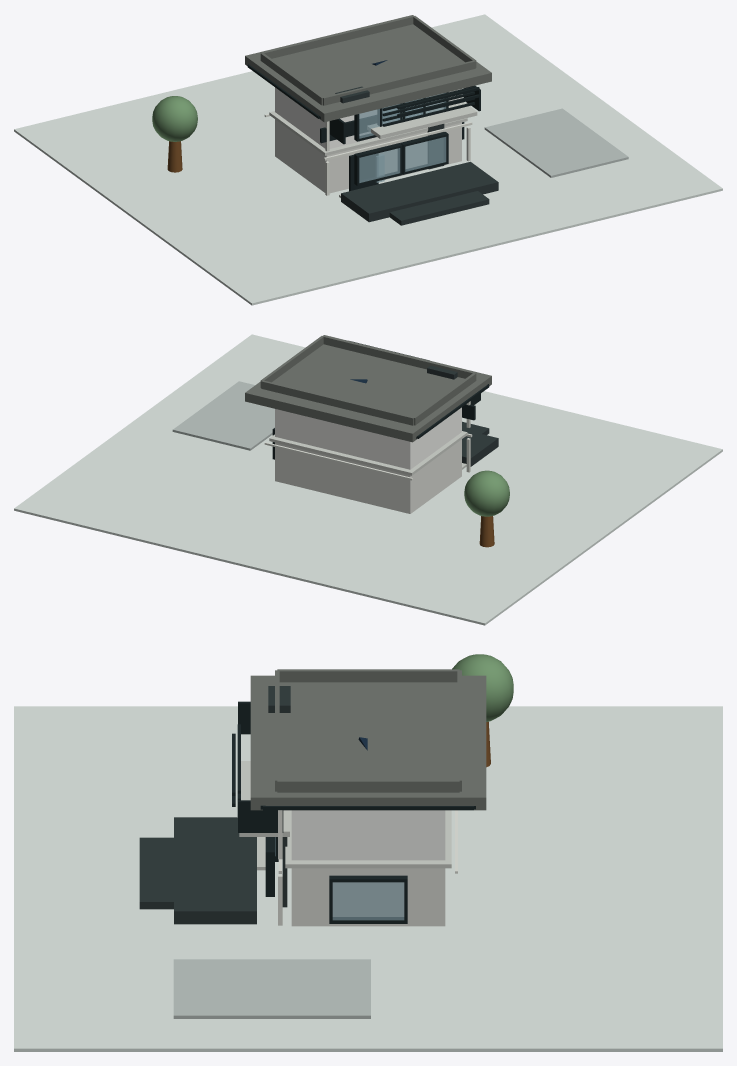
File: generated-shell-pnu-41450-002-compact-flat-studio-urban-atelier.glb
The picture shows the model from 3 angles, top to bottom: view 1: azimuth 30°, elevation 25°; view 2: azimuth 150°, elevation 25°; view 3: azimuth 270°, elevation 25°; orthographic projection. The views are drawn at different scales.
Parts seen in each view (by area): view 1: IfcSite_ServicePreviewBase, IfcRoof_FlatRoof, IfcSpace_ParkingPad, IfcSlab_shell-c1-PNU-41450-002-slab-block-front-deck-1ccdaf6, IfcBuildingElementProxy_FloorMass_L1, IfcWindow_Glass (×3), IfcGeographicElement_GardenTree, IfcBuildingElementProxy_FloorMass_L2, IfcSlab_DeckModule, IfcCovering_RoofParapetBack, IfcSlab_SecondFloorBalcony, IfcCovering_RoofParapetFront (+7 smaller); view 2: IfcSite_ServicePreviewBase, IfcRoof_FlatRoof, IfcBuildingElementProxy_FloorMass_L1, IfcBuildingElementProxy_FloorMass_L2, IfcSpace_ParkingPad, IfcGeographicElement_GardenTree, IfcCovering_RoofParapetBack, IfcSlab_LevelCap_L1, IfcCovering_RoofParapetFront, IfcSlab_shell-c1-PNU-41450-002-slab-block-front-deck-1ccdaf6, IfcCovering_RoofParapetLeft, IfcCovering_RoofParapetRight (+1 smaller); view 3: IfcSite_ServicePreviewBase, IfcRoof_FlatRoof, IfcSpace_ParkingPad, IfcSlab_shell-c1-PNU-41450-002-slab-block-front-deck-1ccdaf6, IfcBuildingElementProxy_FloorMass_L1, IfcBuildingElementProxy_FloorMass_L2, IfcWindow_Glass, IfcCovering_RoofParapetRight, IfcSlab_DeckModule, IfcCovering_RoofParapetLeft, IfcGeographicElement_GardenTree, IfcSlab_LevelCap_L1 (+3 smaller).
Boxes of the visible parts, box(x1,y1,x2,y2) form: IfcSite_ServicePreviewBase: box(14, 14, 722, 305); IfcRoof_FlatRoof: box(245, 15, 491, 122); IfcSpace_ParkingPad: box(484, 108, 628, 177); IfcSlab_shell-c1-PNU-41450-002-slab-block-front-deck-1ccdaf6: box(341, 161, 498, 222); IfcBuildingElementProxy_FloorMass_L1: box(275, 119, 461, 193); IfcWindow_Glass (×3): box(359, 104, 446, 182); IfcGeographicElement_GardenTree: box(152, 96, 197, 172); IfcBuildingElementProxy_FloorMass_L2: box(275, 87, 461, 148); IfcSlab_DeckModule: box(389, 191, 489, 225); IfcCovering_RoofParapetBack: box(261, 15, 414, 58); IfcSlab_SecondFloorBalcony: box(367, 102, 477, 138); IfcCovering_RoofParapetFront: box(323, 60, 475, 105); IfcSite_ServicePreviewBase: box(14, 334, 722, 625); IfcRoof_FlatRoof: box(245, 335, 491, 442); IfcBuildingElementProxy_FloorMass_L1: box(275, 439, 461, 513); IfcBuildingElementProxy_FloorMass_L2: box(275, 407, 461, 469); IfcSpace_ParkingPad: box(172, 381, 274, 450); IfcGeographicElement_GardenTree: box(464, 470, 509, 547); IfcCovering_RoofParapetBack: box(261, 380, 413, 425); IfcSlab_LevelCap_L1: box(269, 431, 467, 475); IfcCovering_RoofParapetFront: box(323, 335, 475, 378); IfcSlab_shell-c1-PNU-41450-002-slab-block-front-deck-1ccdaf6: box(462, 429, 498, 466); IfcCovering_RoofParapetLeft: box(414, 373, 476, 425); IfcCovering_RoofParapetRight: box(260, 336, 323, 387); IfcSite_ServicePreviewBase: box(14, 706, 722, 1051); IfcRoof_FlatRoof: box(250, 675, 486, 810); IfcSpace_ParkingPad: box(173, 959, 370, 1018); IfcSlab_shell-c1-PNU-41450-002-slab-block-front-deck-1ccdaf6: box(174, 817, 256, 924); IfcBuildingElementProxy_FloorMass_L1: box(291, 868, 445, 926); IfcBuildingElementProxy_FloorMass_L2: box(291, 810, 445, 860); IfcWindow_Glass: box(332, 882, 404, 920); IfcCovering_RoofParapetRight: box(277, 779, 459, 792); IfcSlab_DeckModule: box(139, 837, 173, 909); IfcCovering_RoofParapetLeft: box(277, 669, 459, 682); IfcGeographicElement_GardenTree: box(452, 654, 513, 767); IfcSlab_LevelCap_L1: box(285, 810, 451, 868).
Size of the model in its own units: 32 by 6.93 by 28.
